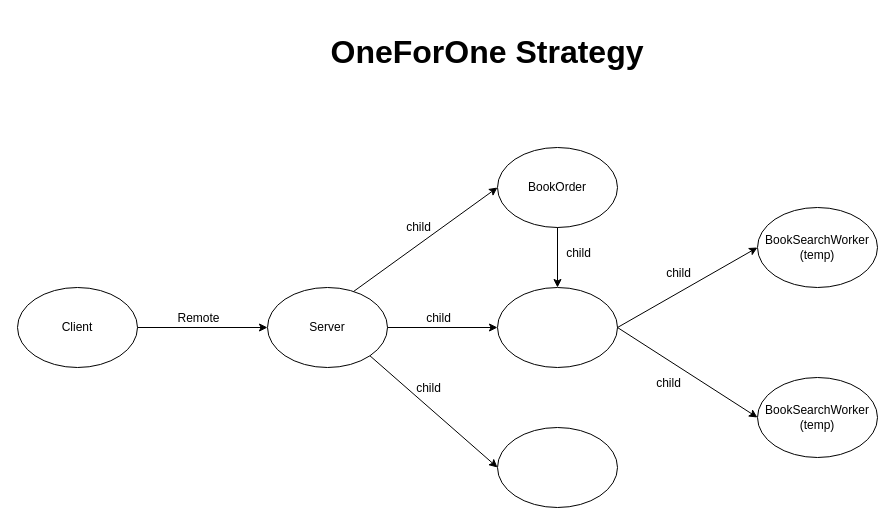
Some shapes in this 895 by 525 pixel diagram are drawn without their labels. Here are the shapes that lost their labels. From the top down, the centre of each, then its label:
At point (557, 327): "BookSearch".
At point (557, 467): "StreamBook".
